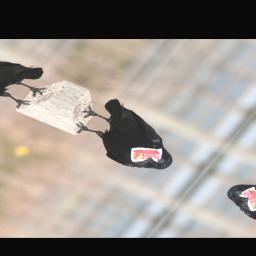Crow: (57, 91, 199, 180)
